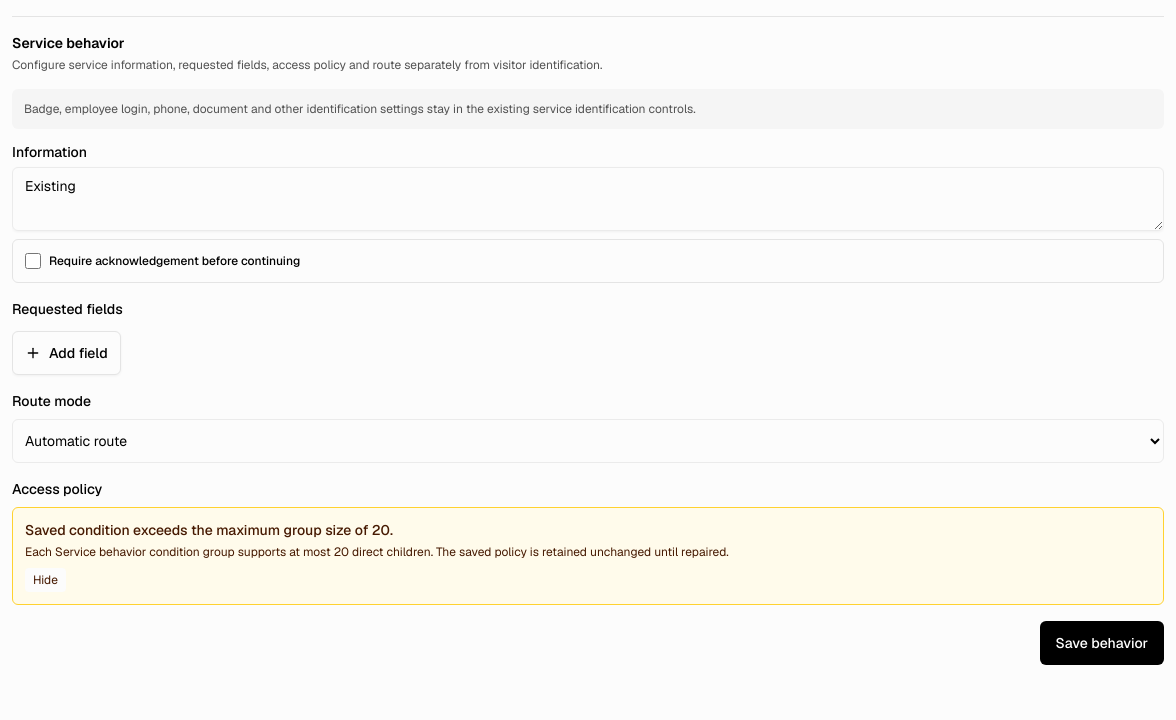
Scenario: ServiceBehaviorEditor › preserves an out-of-bounds saved access policy read-only during unrelated edits
Expected: the message is shown, [12,507,1164,605]
Replace the text in the text box labelled "Information" with "Unrelated edit" at (588, 199), box [12,167,1164,231]
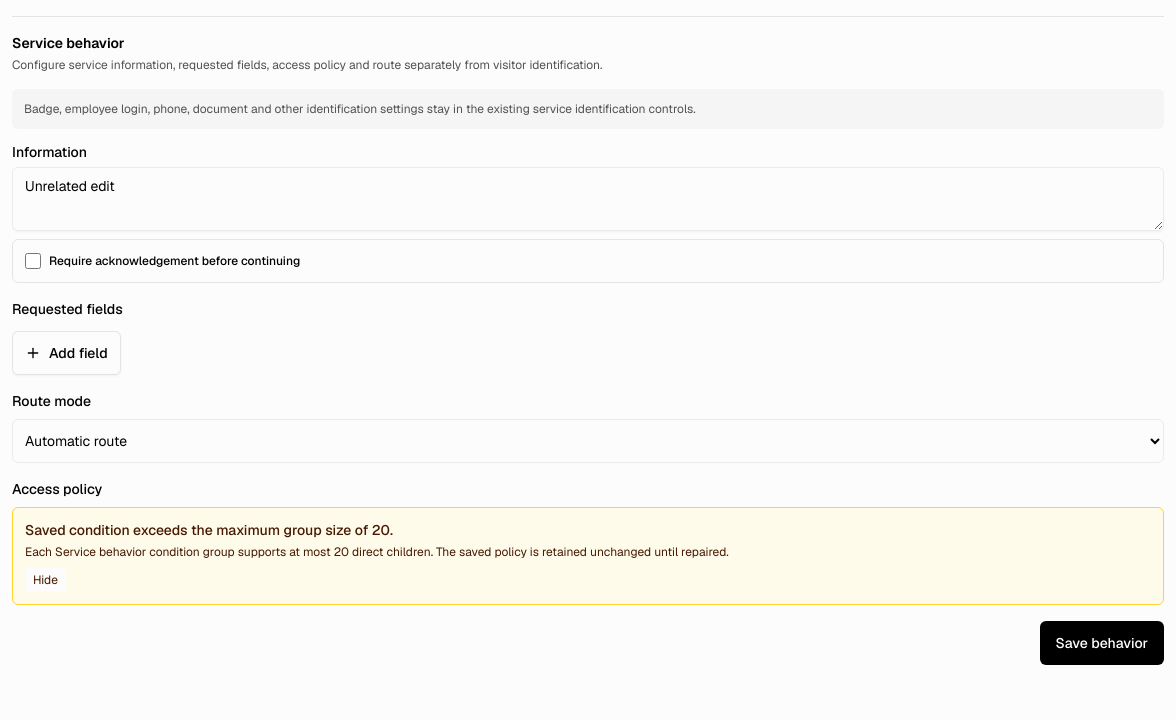
Expected: the message is shown, [12,507,1164,605]
Click the button "Save behavior" at (1102, 643), box [1040,621,1164,665]
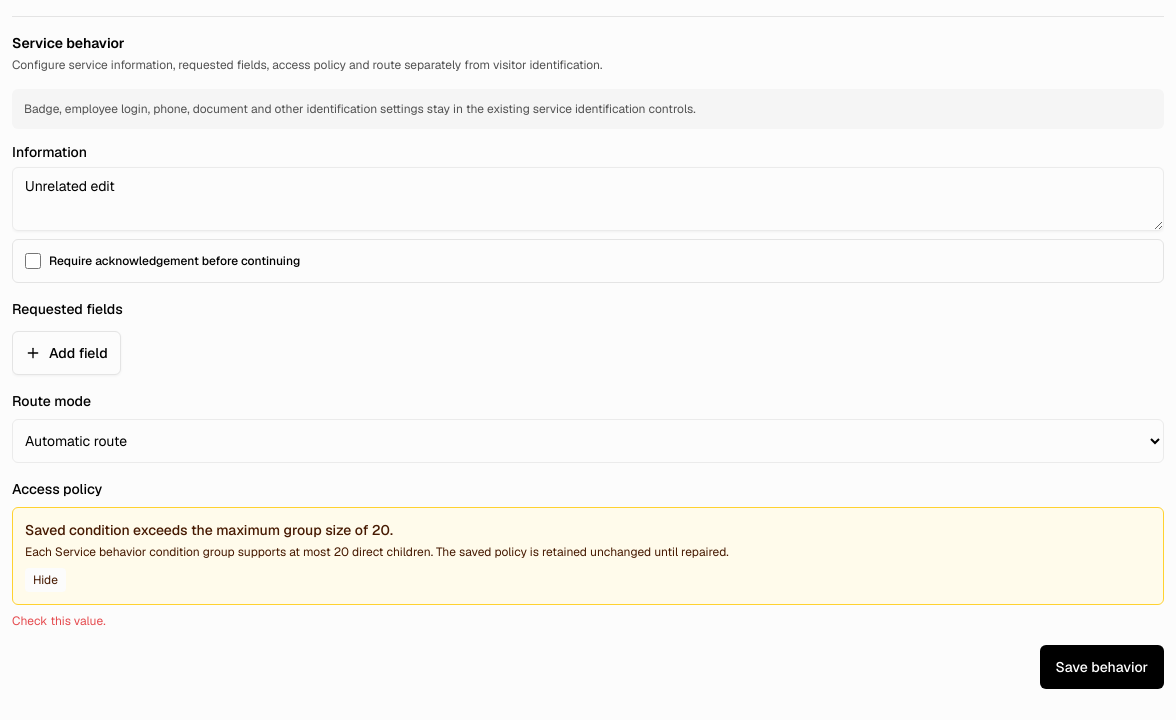
Expected: the text "Check this value." is shown, [12,613,106,629]
